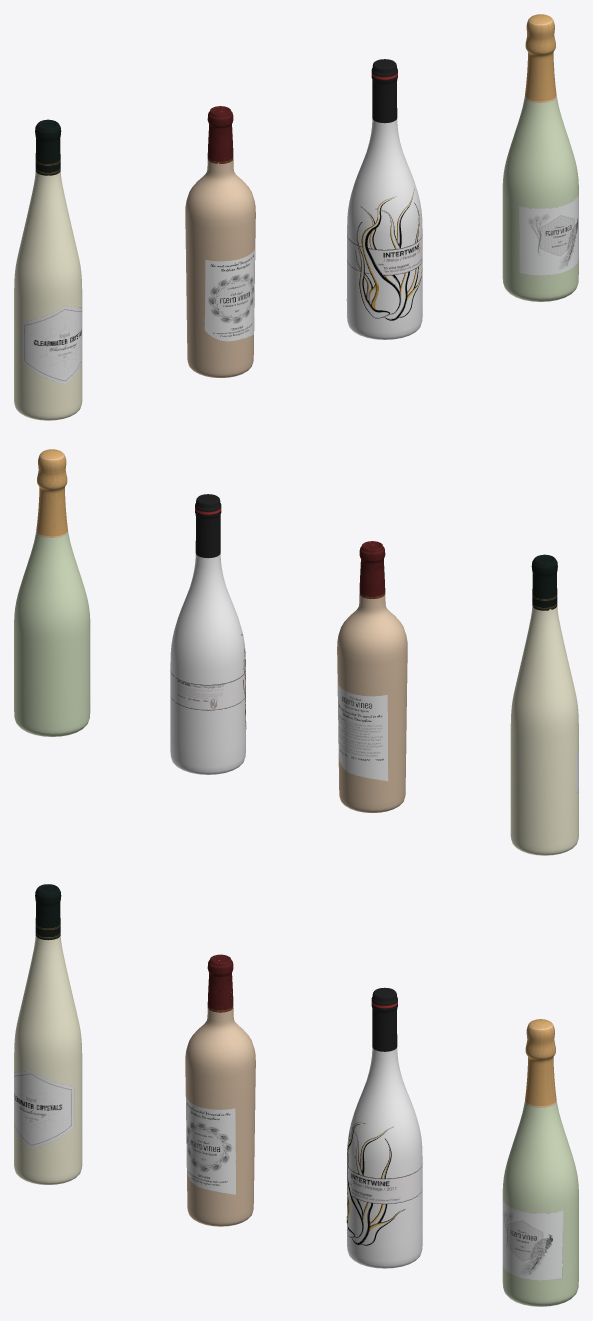
File: wine_bottles_01.fbx
The picture shows the model from 3 angles, top to bottom: view 1: azimuth 30°, elevation 25°; view 2: azimuth 150°, elevation 25°; view 3: azimuth 330°, elevation 25°; orthographic projection.
Visible parts, largest first — view 1: wine_bottles_01_champagne, wine_bottles_01_alsace, wine_bottles_01_burgundy, wine_bottles_01_bordeaux; view 2: wine_bottles_01_champagne, wine_bottles_01_alsace, wine_bottles_01_burgundy, wine_bottles_01_bordeaux; view 3: wine_bottles_01_champagne, wine_bottles_01_alsace, wine_bottles_01_burgundy, wine_bottles_01_bordeaux.
Boxes of the visible parts, x1,y1,x2,y2 form: wine_bottles_01_champagne: [502, 14, 578, 301]; wine_bottles_01_alsace: [14, 119, 82, 420]; wine_bottles_01_burgundy: [346, 59, 422, 339]; wine_bottles_01_bordeaux: [185, 106, 255, 377]; wine_bottles_01_champagne: [14, 449, 90, 736]; wine_bottles_01_alsace: [510, 554, 578, 855]; wine_bottles_01_burgundy: [170, 494, 246, 774]; wine_bottles_01_bordeaux: [337, 541, 407, 812]; wine_bottles_01_champagne: [502, 1019, 578, 1306]; wine_bottles_01_alsace: [14, 884, 82, 1184]; wine_bottles_01_burgundy: [346, 987, 422, 1268]; wine_bottles_01_bordeaux: [185, 954, 255, 1226].
Size of the model in its own units: 67.63 by 33.14 by 8.06.
Materials: 12 (9 with a texture image).
